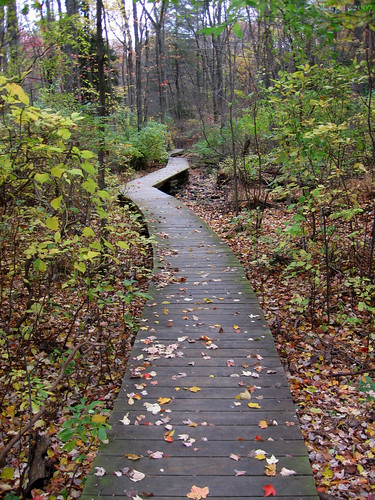vegetation: (1, 2, 144, 500), (190, 1, 375, 312)
